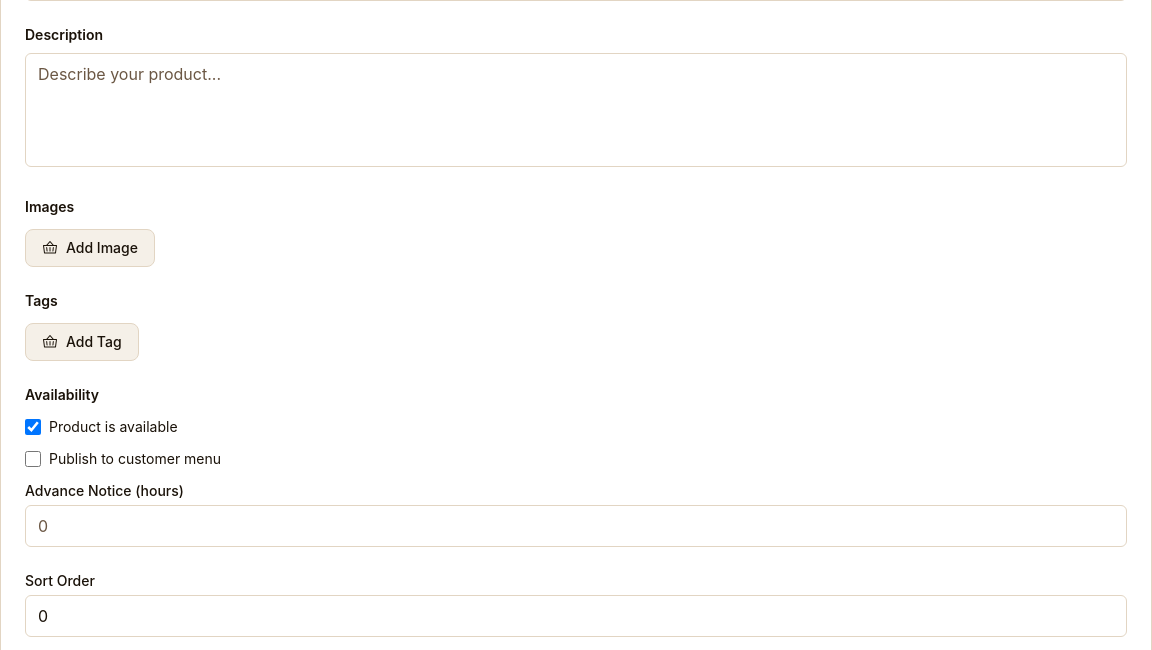
Scenario: ProductForm › Tag handling › adds tag input when Add Tag button is clicked
(page scrolled)
Click the button "Add Tag": (82, 342) 25,323 -> 139,361
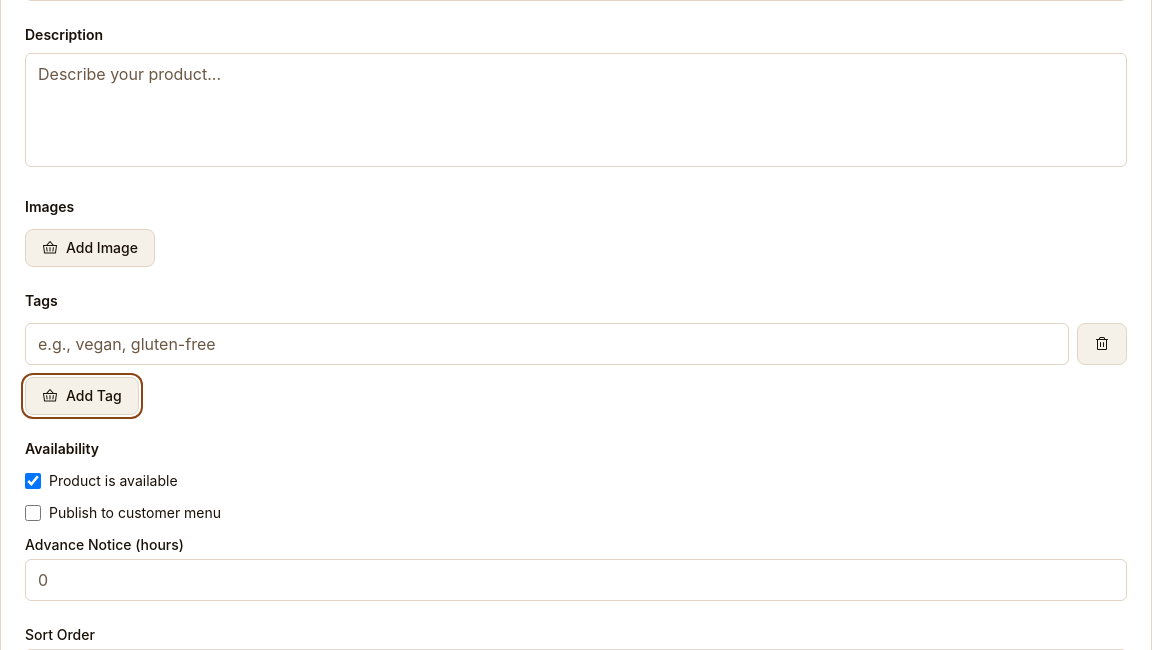
Expected: the field with placeholder "e.g., vegan, gluten-free" is shown, 25,323 -> 1069,365
